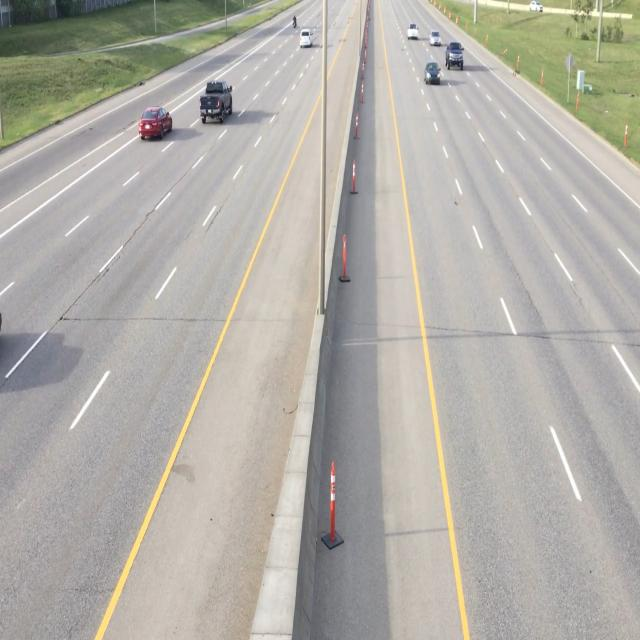Vehicle: (198, 77, 232, 129), (138, 99, 172, 144), (443, 41, 464, 73), (423, 58, 441, 89), (298, 28, 314, 48)
